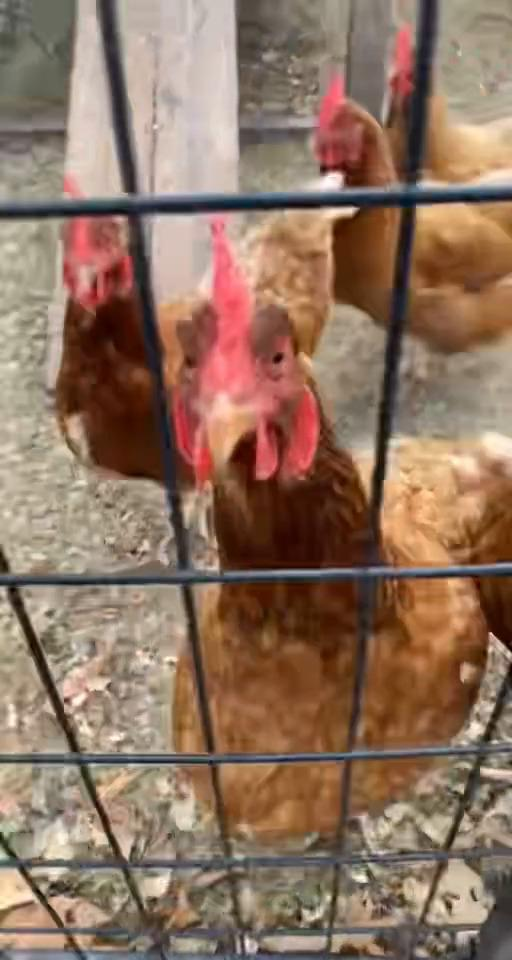rooster: (169, 219, 508, 846), (52, 170, 360, 562), (306, 64, 511, 386), (385, 26, 511, 184), (455, 431, 511, 665)
